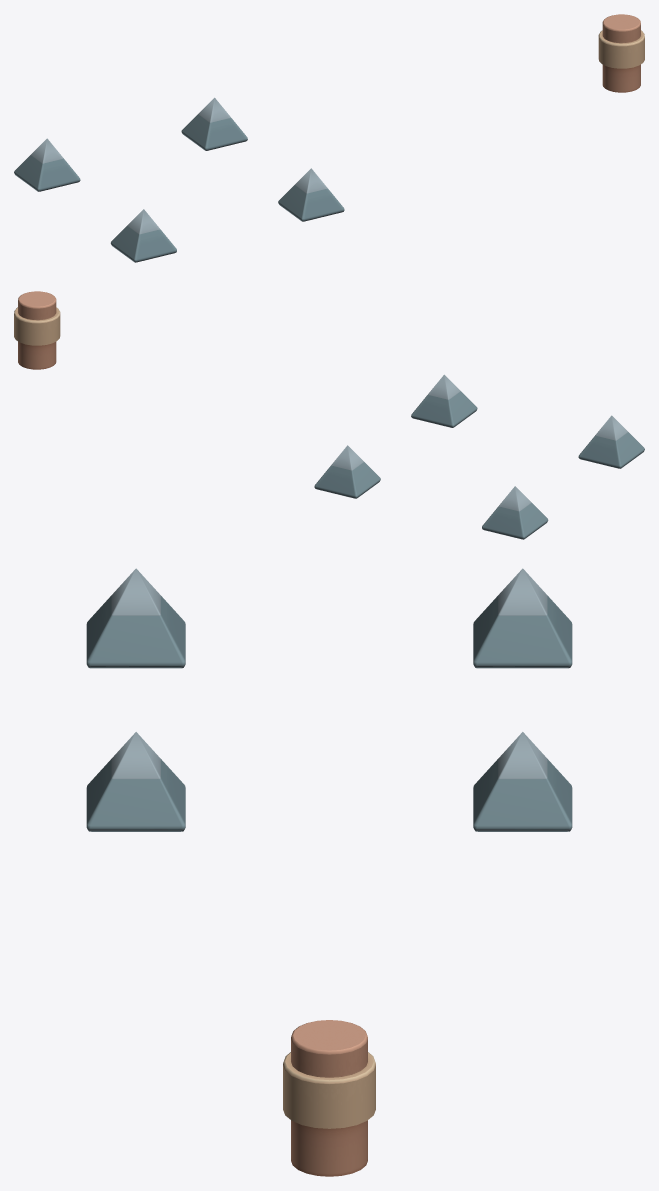
Rendered from Props.fbx.
3 renders of one model, top to bottom at view 1: azimuth 30°, elevation 25°; view 2: azimuth 150°, elevation 25°; view 3: azimuth 270°, elevation 25°, orthographic. The views are drawn at different scales.
Visible parts, largest first — view 1: 三角锥 (×4), Cylinder-2; view 2: 三角锥 (×4), Cylinder-2; view 3: 三角锥 (×4), Cylinder-2.
Part boxes in pixels (x1,y1,x2,y2): 三角锥 (×4): (14, 97, 344, 262); Cylinder-2: (598, 14, 644, 92); 三角锥 (×4): (314, 374, 644, 539); Cylinder-2: (14, 291, 60, 369); 三角锥 (×4): (86, 568, 572, 831); Cylinder-2: (283, 1020, 375, 1176).
Size of the model in its own units: 47.48 by 5.05 by 17.6.
2 materials, 2 textured.
